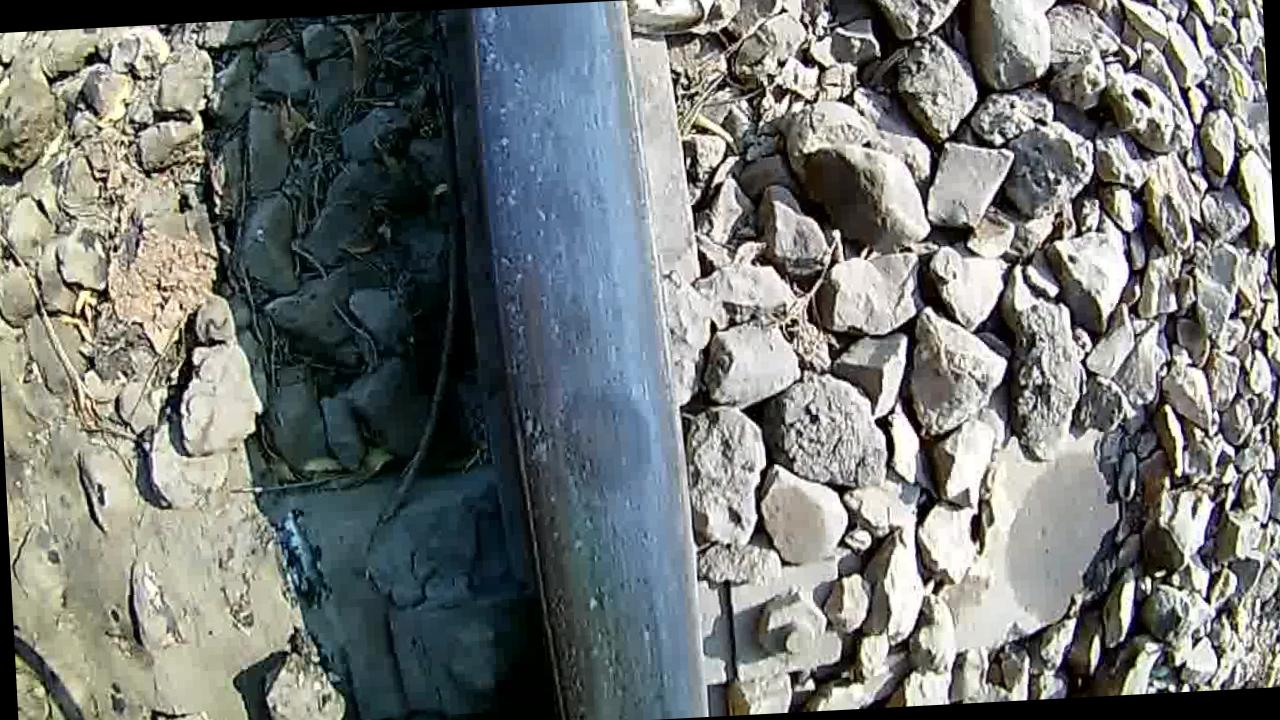bolt_missing: (507, 280, 670, 620)
